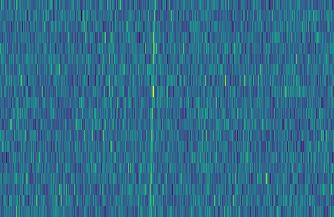signal: (145, 0, 159, 217)
